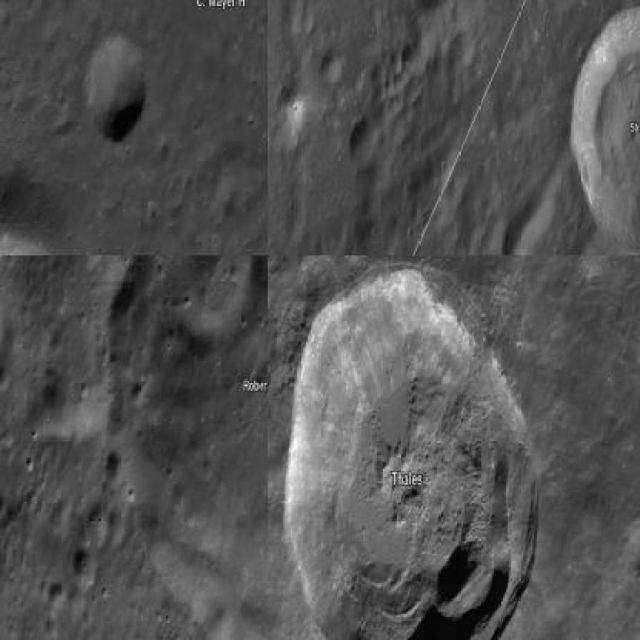crater: (286, 267, 540, 638), (106, 256, 266, 638), (571, 3, 638, 254), (89, 31, 148, 138)
